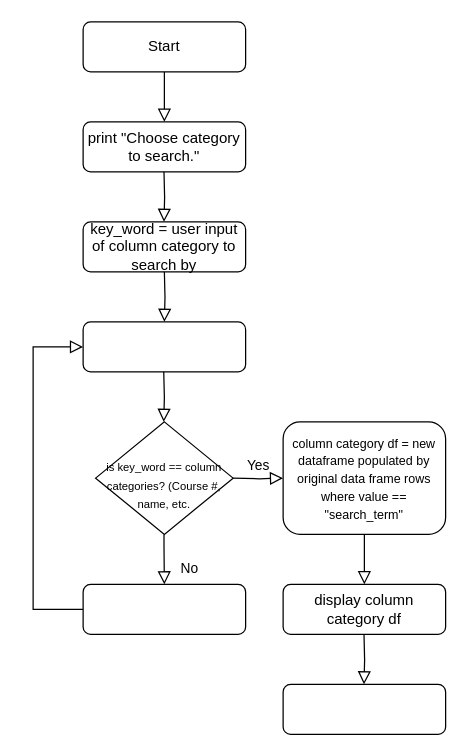
The diagram is 468 pixels wide and 756 high, and some of its shapes have lost their labels. Here are the shapes that lost their labels. From the top down, the centre of each, then its label:
(x=164, y=346): search_term = user input of what term they would like to search
(x=164, y=608): print "Try again!"
(x=364, y=708): Stop
